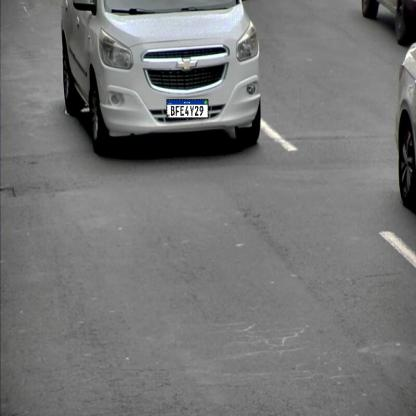PlacaM: (166, 99, 209, 119)
